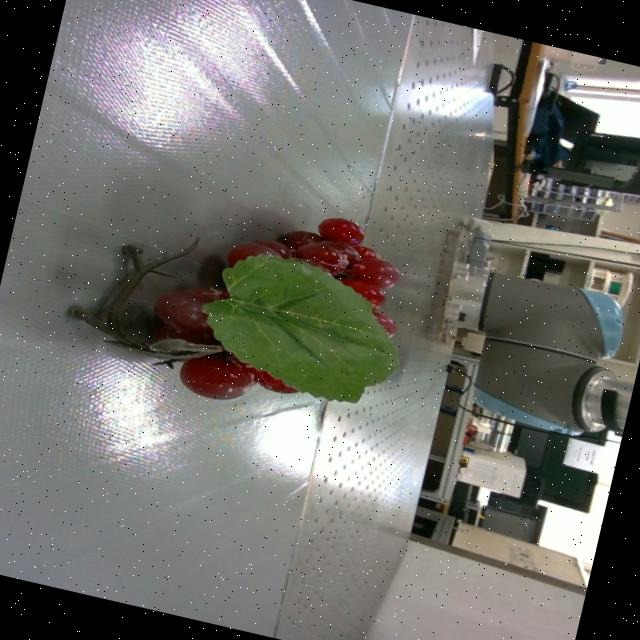grape: (71, 216, 400, 401)
